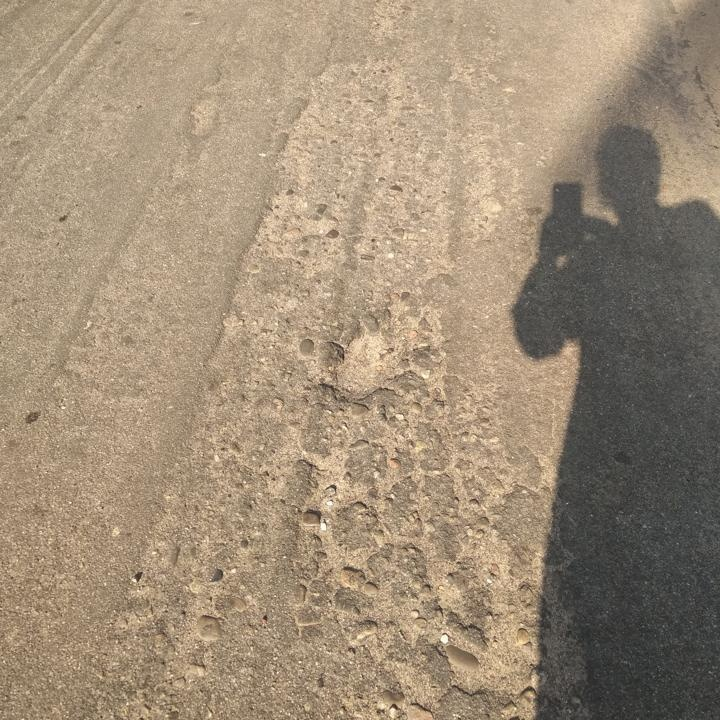pothole: (321, 324, 415, 408)
